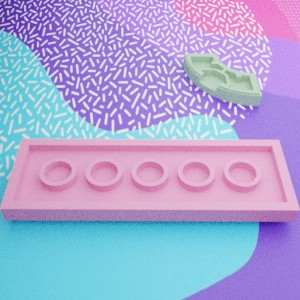lego: (0, 138, 300, 221), (183, 53, 261, 106)
